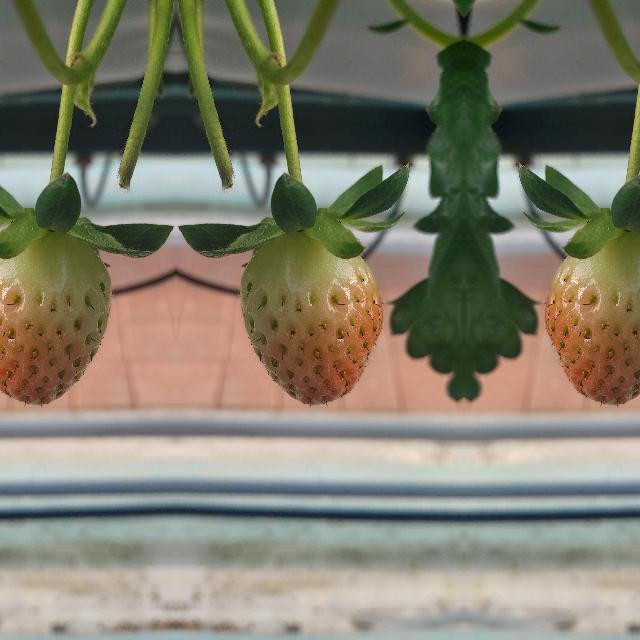Health_50: (239, 234, 381, 406), (0, 233, 111, 406), (545, 233, 640, 406)
